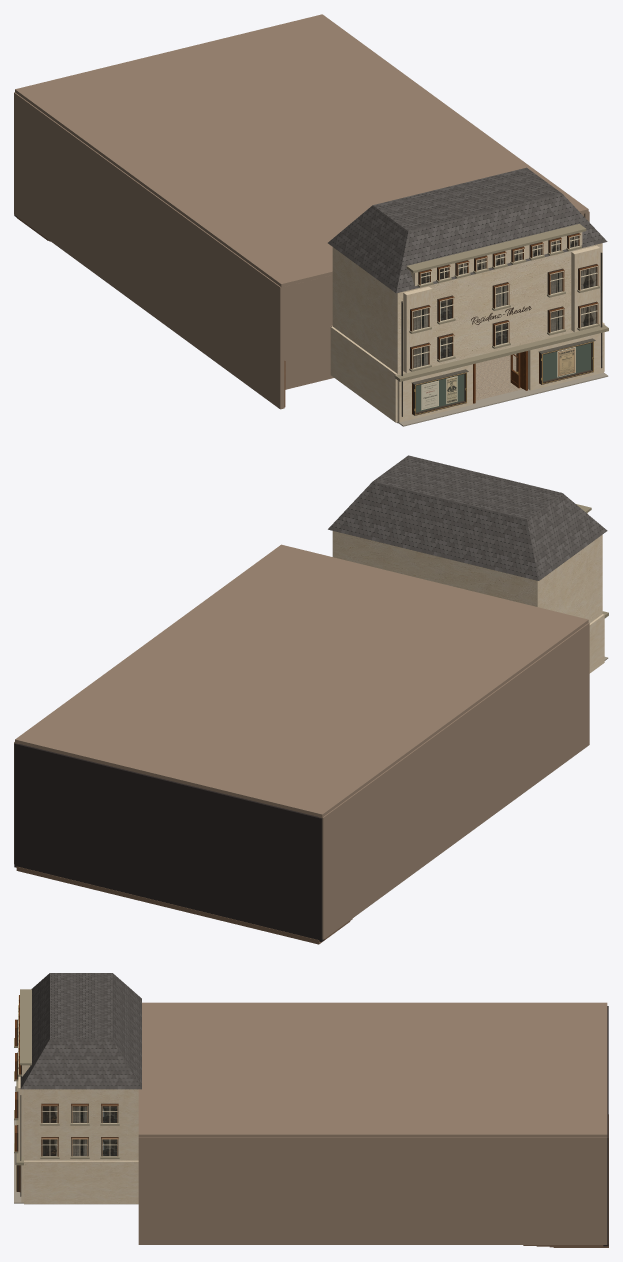
Rendered from res35.glb.
3 renders of one model, top to bottom at view 1: azimuth 30°, elevation 25°; view 2: azimuth 150°, elevation 25°; view 3: azimuth 270°, elevation 25°, orthographic. The views are drawn at different scales.
Visible parts, largest first — view 1: Saaldecke, Saalwand, Walmdach, Obergeschosse, Saalrückwand, Foyeraußenwand, Gaubengesims, Gurtgesims, Flacher Erker, Flacher Erker.001, Schwelle, Eingangsfront (+3 smaller); view 2: Saaldecke, Bühnenrückwand, Saalwand, Walmdach, Obergeschosse, Vorderes Parkett, Foyeraußenwand; view 3: Saaldecke, Saalwand.001, Walmdach, Obergeschosse, Foyeraußenwand.001, Gaubengesims, Bühnenrückwand, Flacher Erker.001.
Part boxes in pixels (<box>): Saaldecke: <box>15,14,588,287</box>; Saalwand: <box>14,92,284,409</box>; Walmdach: <box>328,167,607,293</box>; Obergeschosse: <box>332,243,602,374</box>; Saalrückwand: <box>284,275,333,389</box>; Foyeraußenwand: <box>330,326,399,422</box>; Gaubengesims: <box>406,224,586,273</box>; Gurtgesims: <box>394,325,608,381</box>; Flacher Erker: <box>403,286,432,373</box>; Flacher Erker.001: <box>571,245,600,332</box>; Schwelle: <box>397,373,608,426</box>; Eingangsfront: <box>397,364,472,422</box>; Saaldecke: <box>15,544,588,817</box>; Bühnenrückwand: <box>14,743,324,941</box>; Saalwand: <box>319,622,589,939</box>; Walmdach: <box>328,455,607,580</box>; Obergeschosse: <box>332,531,602,622</box>; Vorderes Parkett: <box>16,866,350,944</box>; Foyeraußenwand: <box>589,614,604,673</box>; Saaldecke: <box>138,1002,607,1137</box>; Saalwand.001: <box>138,1137,607,1244</box>; Walmdach: <box>20,973,141,1089</box>; Obergeschosse: <box>24,1089,138,1160</box>; Foyeraußenwand.001: <box>24,1160,138,1203</box>; Gaubengesims: <box>20,989,31,1065</box>; Bühnenrückwand: <box>603,1006,608,1246</box>; Flacher Erker.001: <box>18,1077,23,1156</box>.
Size of the model in its own units: 24.15 by 14.99 by 45.69.
Materials: 36 (14 with a texture image).
